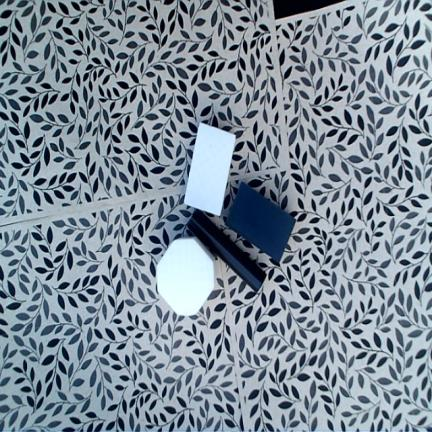Cilindro: (187, 210, 267, 292)
Paralelepipedo: (226, 181, 296, 264), (183, 123, 237, 217)
Prisma_hexagonal: (156, 236, 215, 316)
